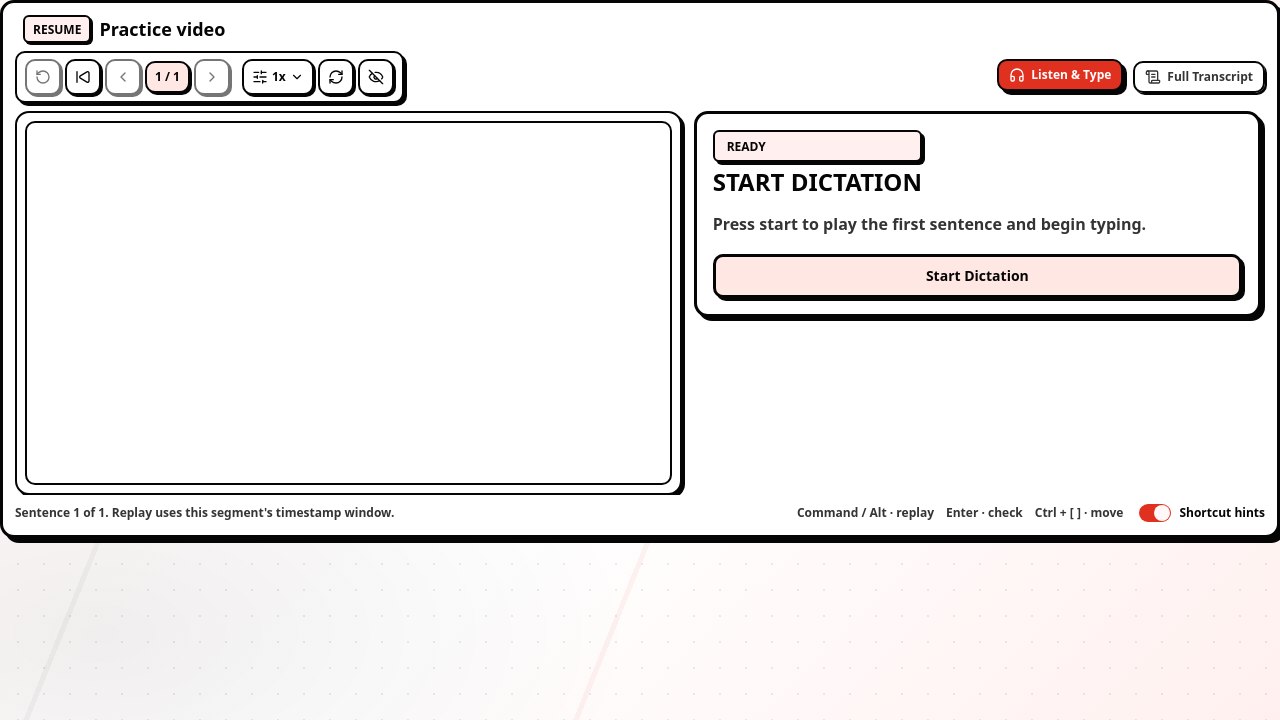
Test case: DictationPracticeShell attempts › Check rewrites accepted variant "21st" back to the exact answer
Click the button "Start Dictation".
click(977, 276)  # box [713,254,1242,298]
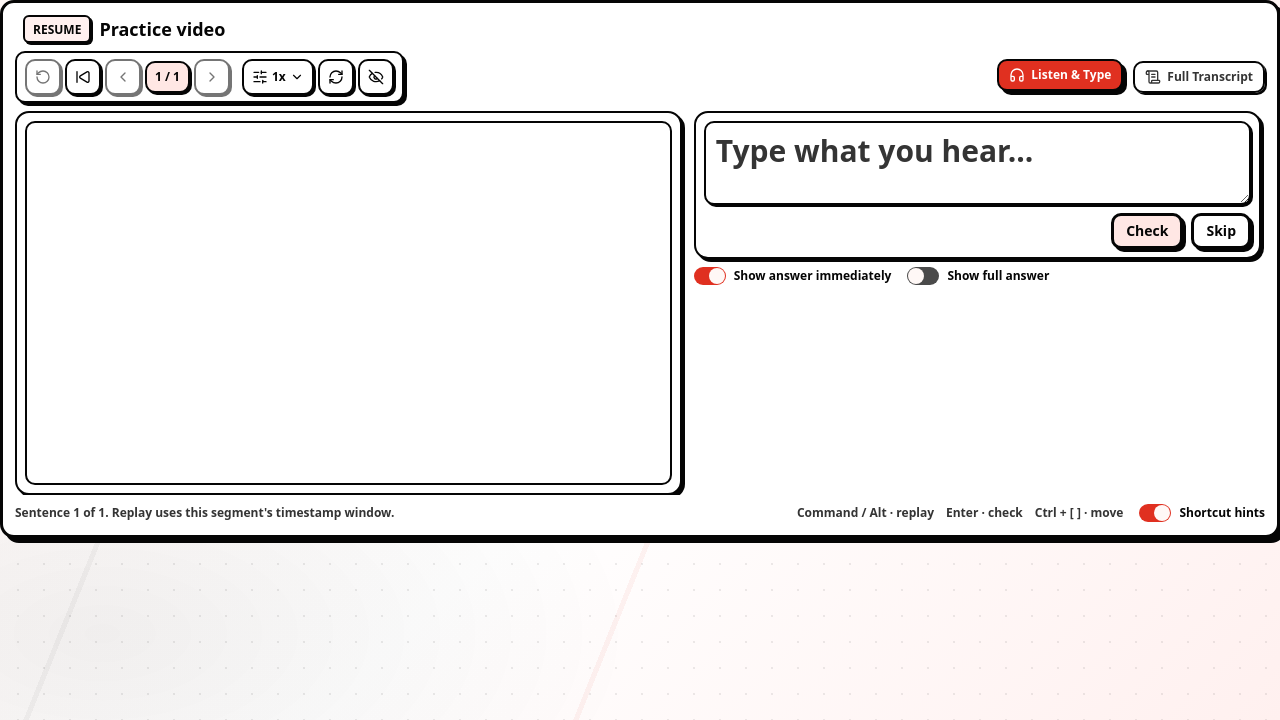
Type "twenty first" into the text box labelled "Type what you hear".
click(977, 163); type("twenty first")  # box [706,123,1249,203]
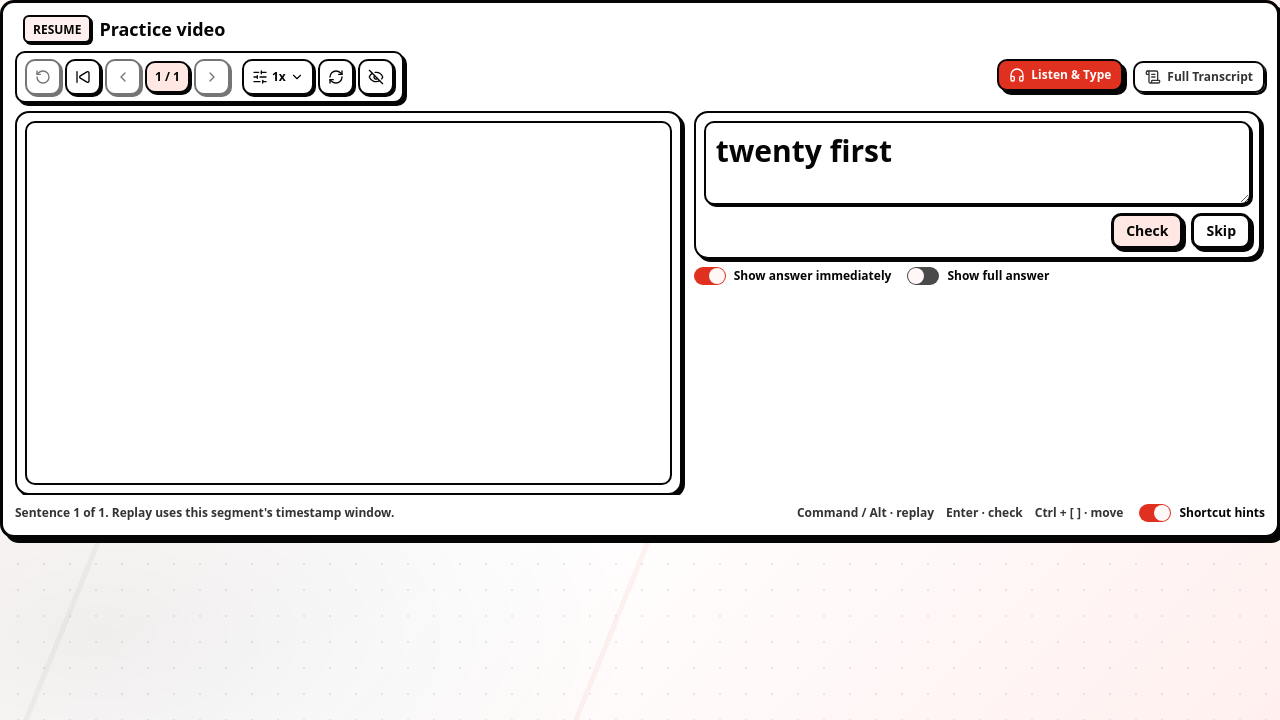
Click the button "Check".
click(1147, 231)  # box [1111,213,1184,249]
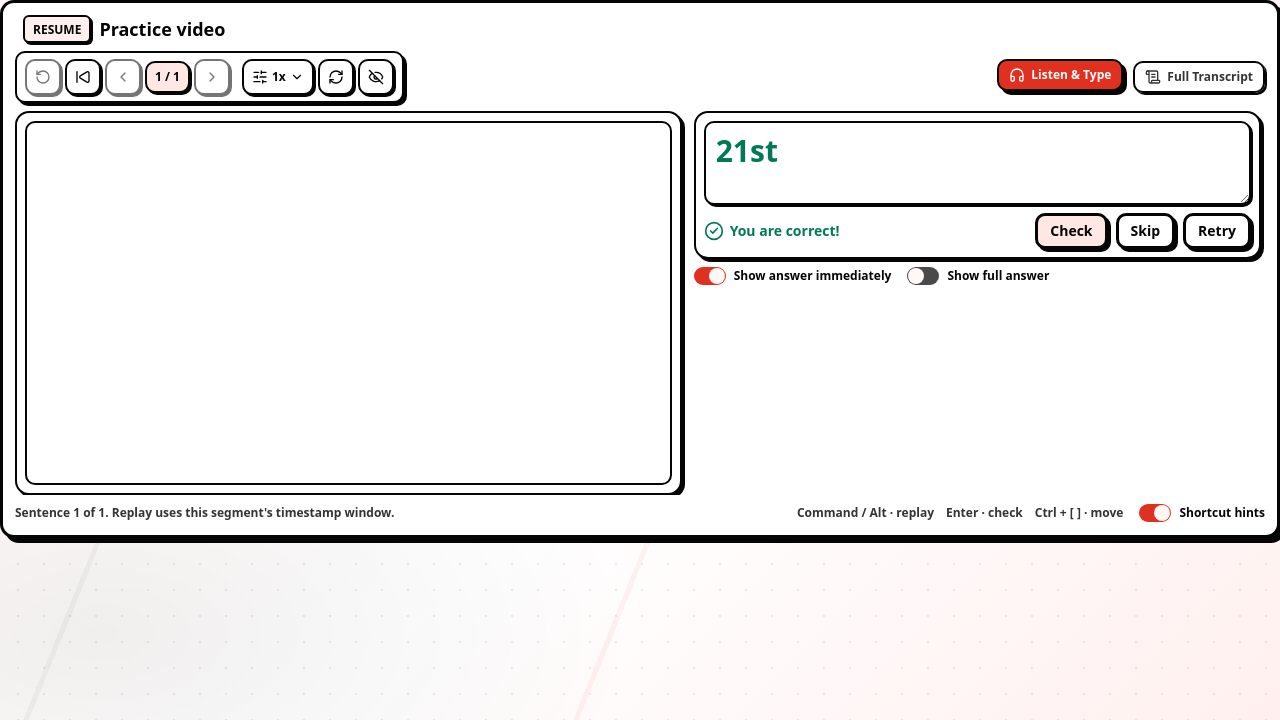
expect the text box named "Type what you hear" holds "21st": met, box [706,123,1249,203]
expect the message reads "You are correct!": met, box [730,221,840,240]
